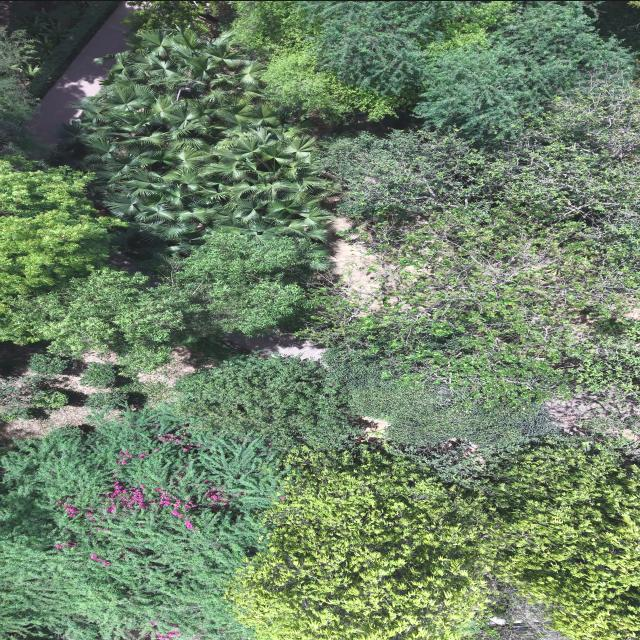VEGETATION_TREE: (0, 1, 639, 639), (317, 86, 638, 406), (229, 443, 638, 639), (0, 410, 280, 639), (67, 30, 335, 251), (233, 1, 634, 136), (229, 448, 490, 639), (302, 1, 635, 135), (12, 234, 326, 369), (12, 258, 307, 368), (482, 444, 638, 639), (414, 3, 637, 136), (323, 347, 561, 450), (0, 159, 117, 342), (8, 268, 213, 369), (233, 1, 402, 120), (302, 1, 509, 95), (0, 1, 119, 158), (173, 357, 362, 449), (169, 234, 327, 336), (0, 210, 116, 309), (2, 1, 119, 98), (262, 41, 402, 120), (29, 1, 118, 97), (6, 1, 85, 75), (0, 157, 92, 216), (467, 591, 566, 639), (232, 1, 316, 54), (0, 26, 35, 147), (0, 376, 69, 420), (123, 1, 219, 31), (596, 1, 639, 51), (79, 363, 117, 388), (29, 354, 73, 375), (85, 391, 129, 410)
